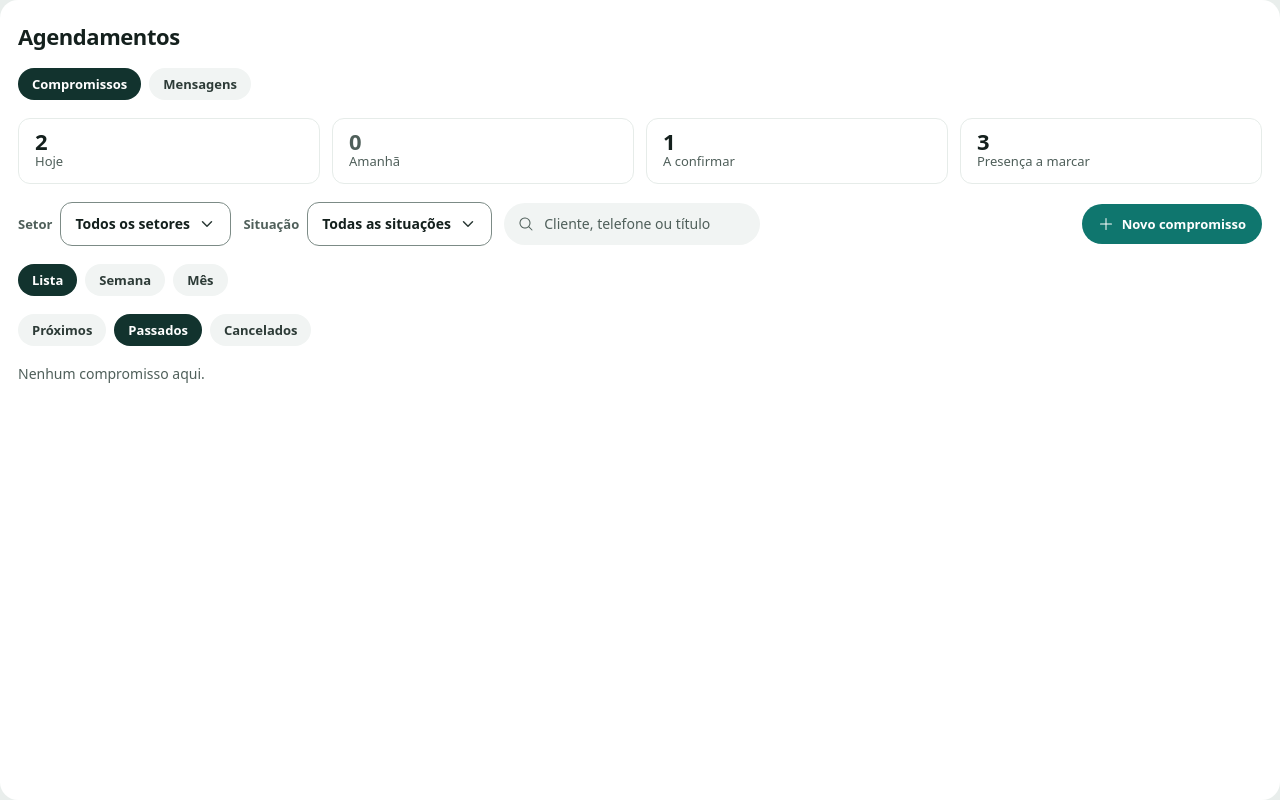
Test: an empty tab says "Nenhum compromisso aqui.", and "Novo compromisso" opens the form with "Cliente"
Expected: the text "Nenhum compromisso aqui." is shown, [18,364,205,383]
Click the button "Novo compromisso" at (1172, 224), box [1082,204,1262,244]
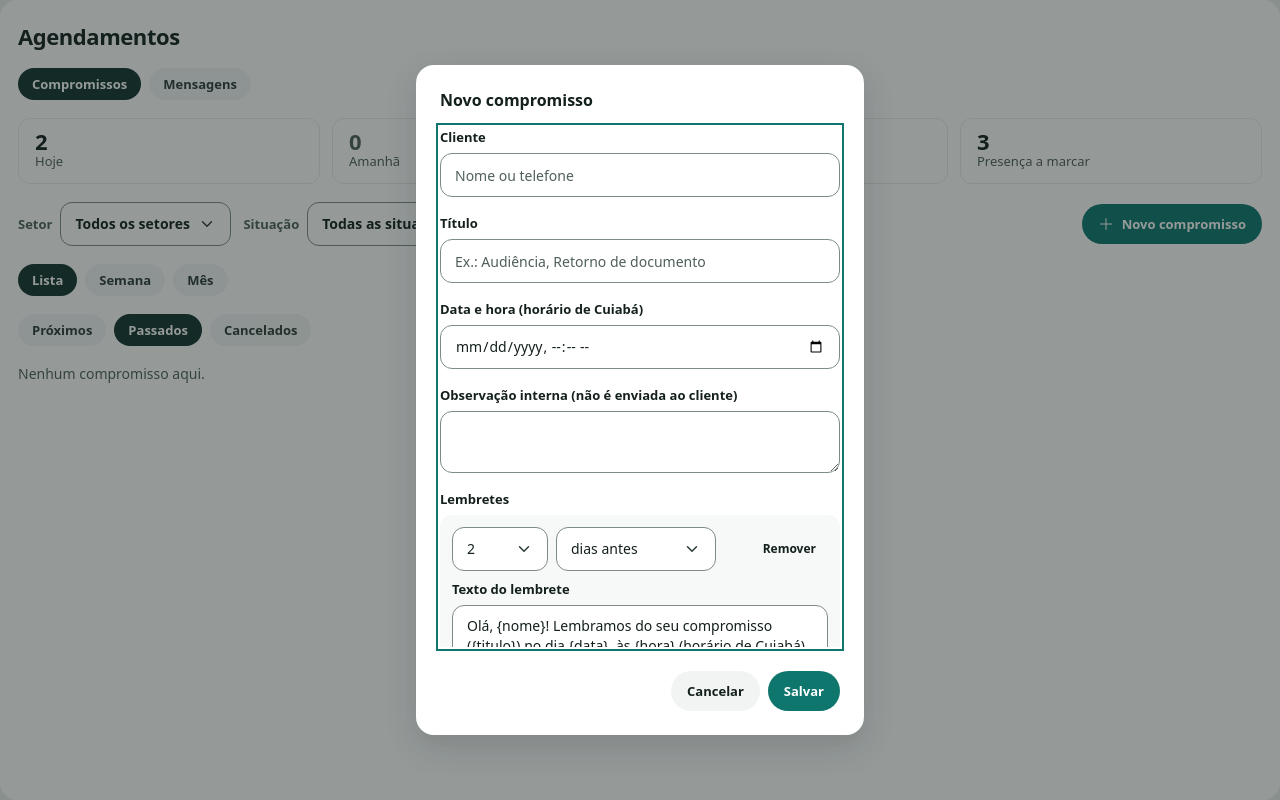
Now the field labelled "Cliente" is shown, box [440,153,840,197]
